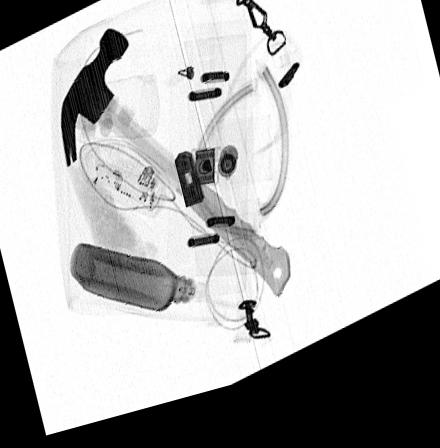Hammer: (59, 32, 292, 313)
